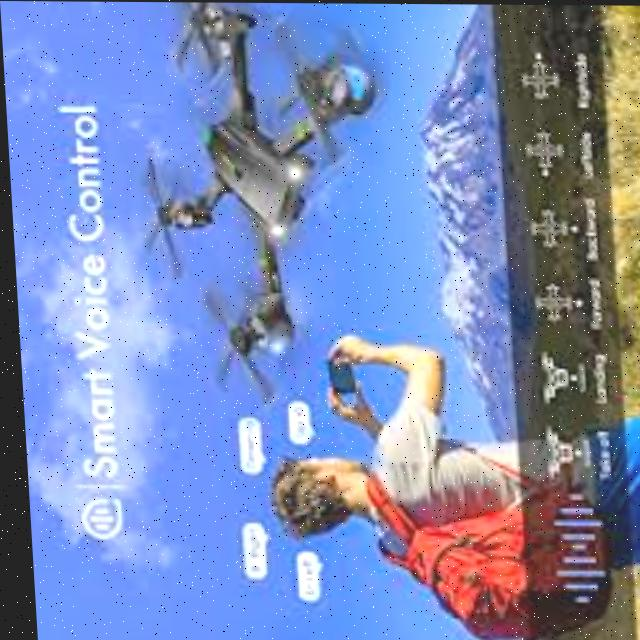drone: (119, 1, 402, 410)
